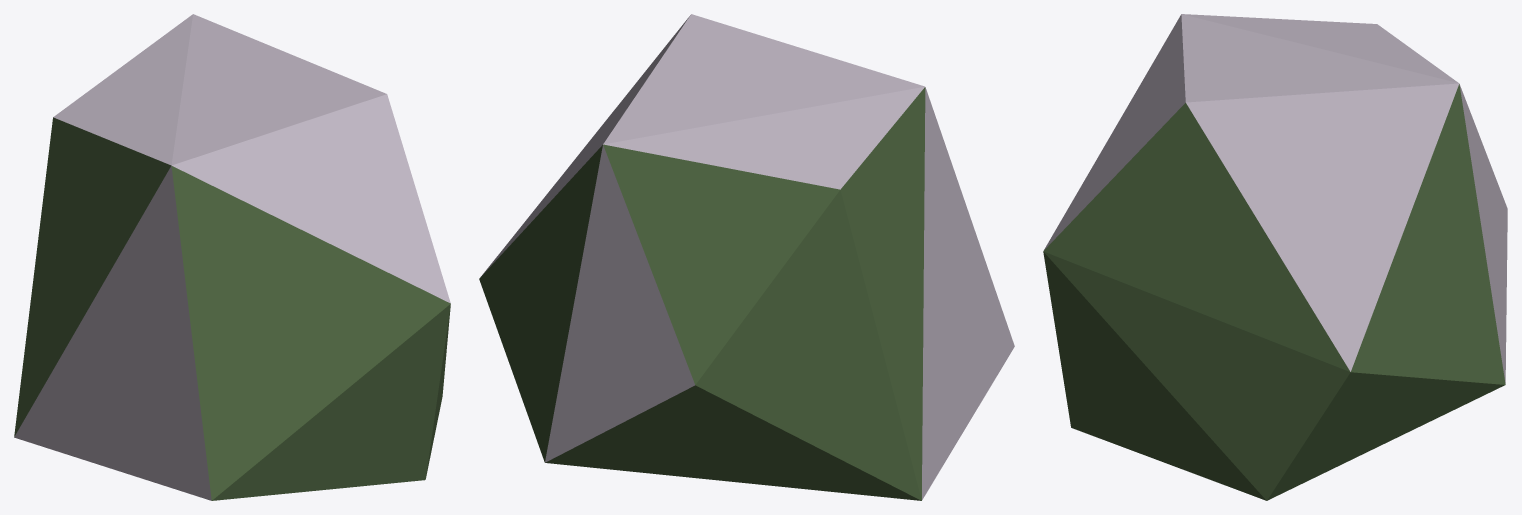
The model's file is Bush_Snow_2.lod4.glb.
3 renders of one model, left to right at view 1: azimuth 30°, elevation 25°; view 2: azimuth 150°, elevation 25°; view 3: azimuth 270°, elevation 25°, orthographic. The views are drawn at different scales.
Parts seen in each view (by area): view 1: Bush_Snow_2; view 2: Bush_Snow_2; view 3: Bush_Snow_2.
Part boxes in pixels (x1,y1,x2,y2): Bush_Snow_2: (14,14,450,500); Bush_Snow_2: (479,14,1014,500); Bush_Snow_2: (1043,14,1507,500).
Size of the model in its own units: 1.3 by 1.08 by 1.29.
